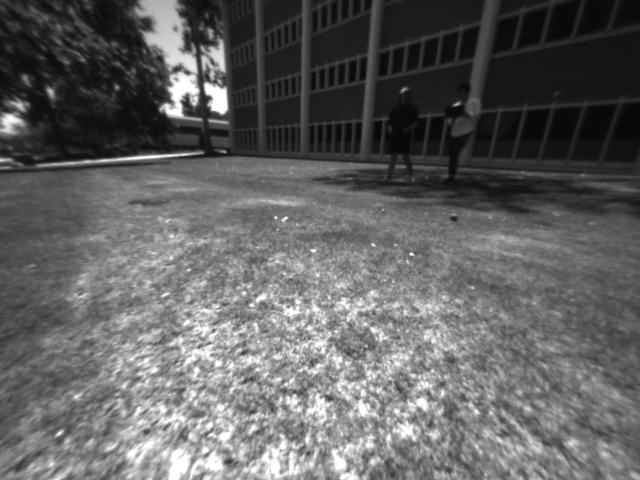dogtoy: (443, 205, 472, 230)
